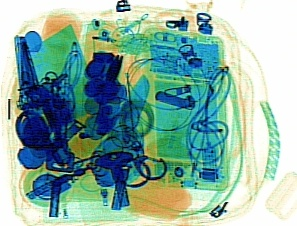knife: (112, 69, 157, 135)
